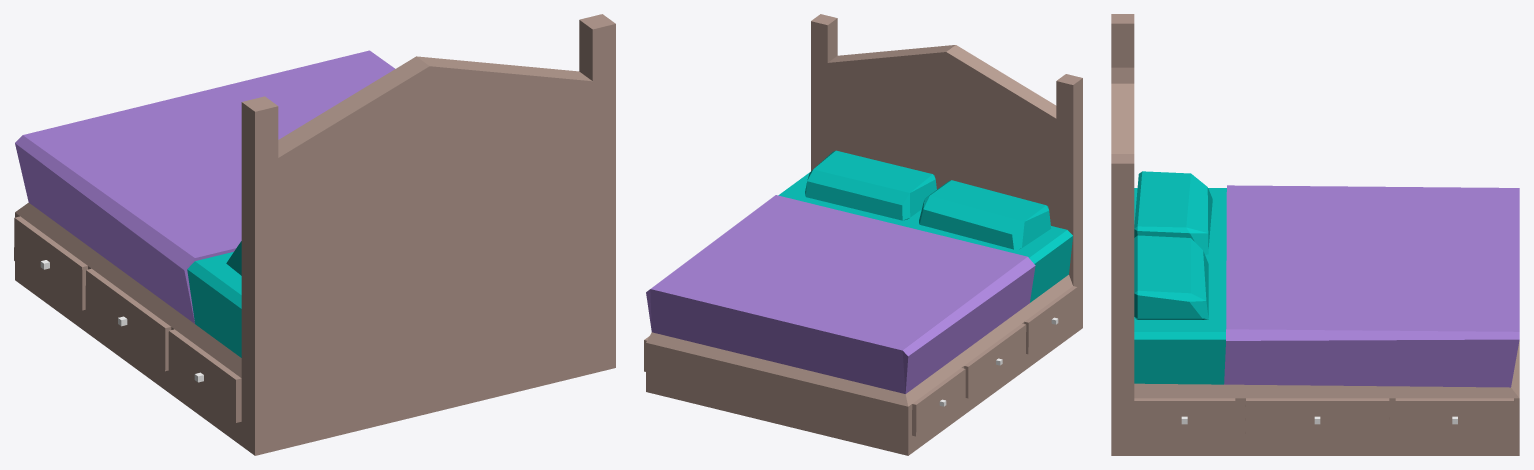
Rendered from princess_bed.glb.
3 renders of one model, left to right at view 1: azimuth 30°, elevation 25°; view 2: azimuth 150°, elevation 25°; view 3: azimuth 270°, elevation 25°, orthographic. The views are drawn at different scales.
Visible parts, largest first — view 1: mesh_2092540418_material_20___11654_0, mesh_63570314_material_2___11654_0, mesh_63570314_material_20___11654_0, mesh_591677075_material_20___11654_0, mesh_682826594_material_20___11654_0, mesh_63570314_material_11___11654_0; view 2: mesh_63570314_material_2___11654_0, mesh_2092540418_material_20___11654_0, mesh_63570314_material_20___11654_0, mesh_503190328_material_11___11654_0, mesh_1052566107_material_11___11654_0, mesh_591677075_material_20___11654_0, mesh_63570314_material_11___11654_0, mesh_682826594_material_20___11654_0; view 3: mesh_63570314_material_2___11654_0, mesh_63570314_material_20___11654_0, mesh_63570314_material_11___11654_0, mesh_682826594_material_20___11654_0, mesh_503190328_material_11___11654_0, mesh_1052566107_material_11___11654_0, mesh_2092540418_material_20___11654_0, mesh_591677075_material_20___11654_0.
Boxes of the visible parts, <box> form: mesh_2092540418_material_20___11654_0: <box>278,56,592,450</box>; mesh_63570314_material_2___11654_0: <box>15,50,394,323</box>; mesh_63570314_material_20___11654_0: <box>14,202,241,445</box>; mesh_591677075_material_20___11654_0: <box>241,96,278,455</box>; mesh_682826594_material_20___11654_0: <box>579,14,615,373</box>; mesh_63570314_material_11___11654_0: <box>187,252,241,357</box>; mesh_63570314_material_2___11654_0: <box>646,195,1035,393</box>; mesh_2092540418_material_20___11654_0: <box>827,45,1056,226</box>; mesh_63570314_material_20___11654_0: <box>644,275,1077,455</box>; mesh_503190328_material_11___11654_0: <box>805,150,936,220</box>; mesh_1052566107_material_11___11654_0: <box>919,180,1051,249</box>; mesh_591677075_material_20___11654_0: <box>1056,74,1082,334</box>; mesh_63570314_material_11___11654_0: <box>778,172,1072,302</box>; mesh_682826594_material_20___11654_0: <box>811,14,837,170</box>; mesh_63570314_material_2___11654_0: <box>1224,185,1519,387</box>; mesh_63570314_material_20___11654_0: <box>1134,340,1519,455</box>; mesh_63570314_material_11___11654_0: <box>1134,188,1226,384</box>; mesh_682826594_material_20___11654_0: <box>1111,154,1134,455</box>; mesh_503190328_material_11___11654_0: <box>1134,235,1208,319</box>; mesh_1052566107_material_11___11654_0: <box>1134,171,1212,255</box>; mesh_2092540418_material_20___11654_0: <box>1111,67,1134,153</box>; mesh_591677075_material_20___11654_0: <box>1111,14,1134,67</box>.
Bounding box in the file's own units: 132 × 114 × 143.
